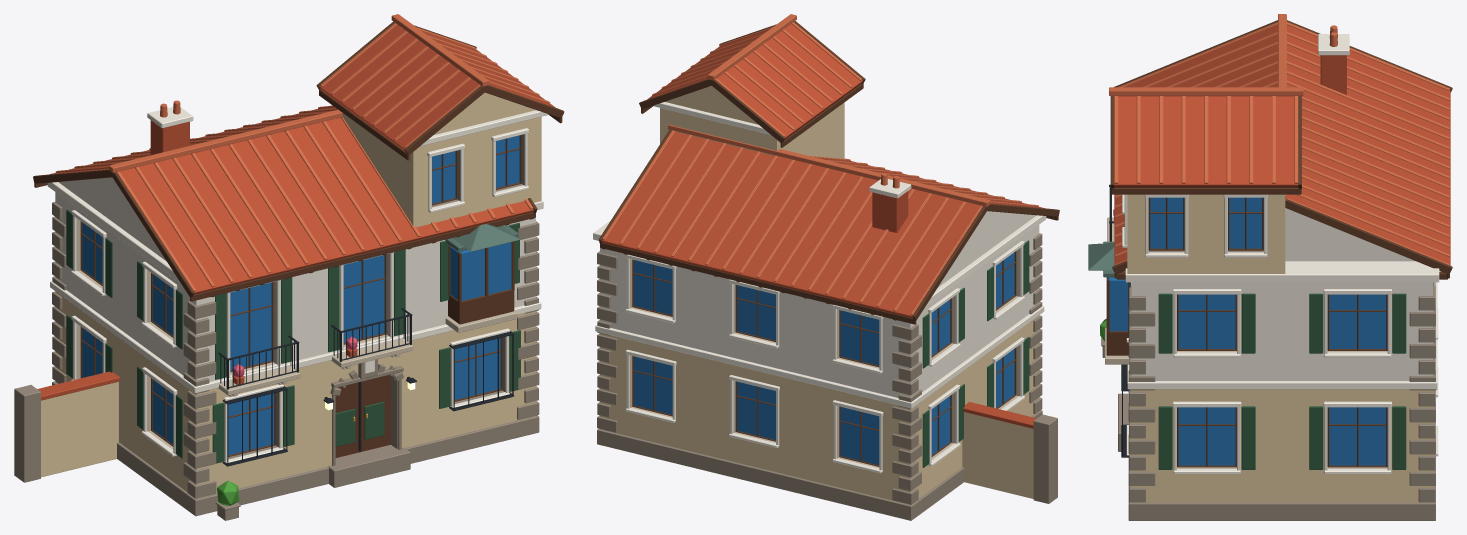
The model's file is 01_casco_house-lod0.glb.
3 renders of one model, left to right at view 1: azimuth 30°, elevation 25°; view 2: azimuth 150°, elevation 25°; view 3: azimuth 270°, elevation 25°, orthographic. The views are drawn at different scales.
Visible parts, largest first — view 1: CasaHistorica_LOD0; view 2: CasaHistorica_LOD0; view 3: CasaHistorica_LOD0.
Boxes of the visible parts, <box> form: CasaHistorica_LOD0: <box>14,14,564,520</box>; CasaHistorica_LOD0: <box>593,14,1059,520</box>; CasaHistorica_LOD0: <box>1088,14,1452,520</box>.
Size of the model in its own units: 15.28 by 12.01 by 9.9.
